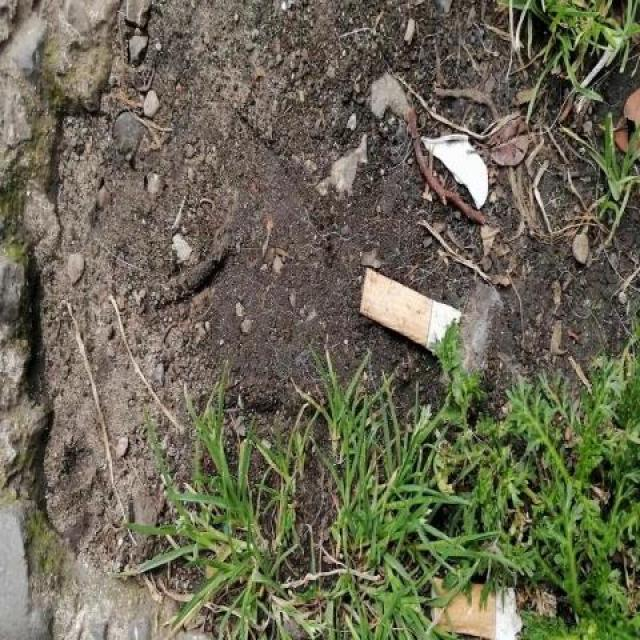non-organic waste: (355, 260, 466, 365), (427, 568, 525, 640)
